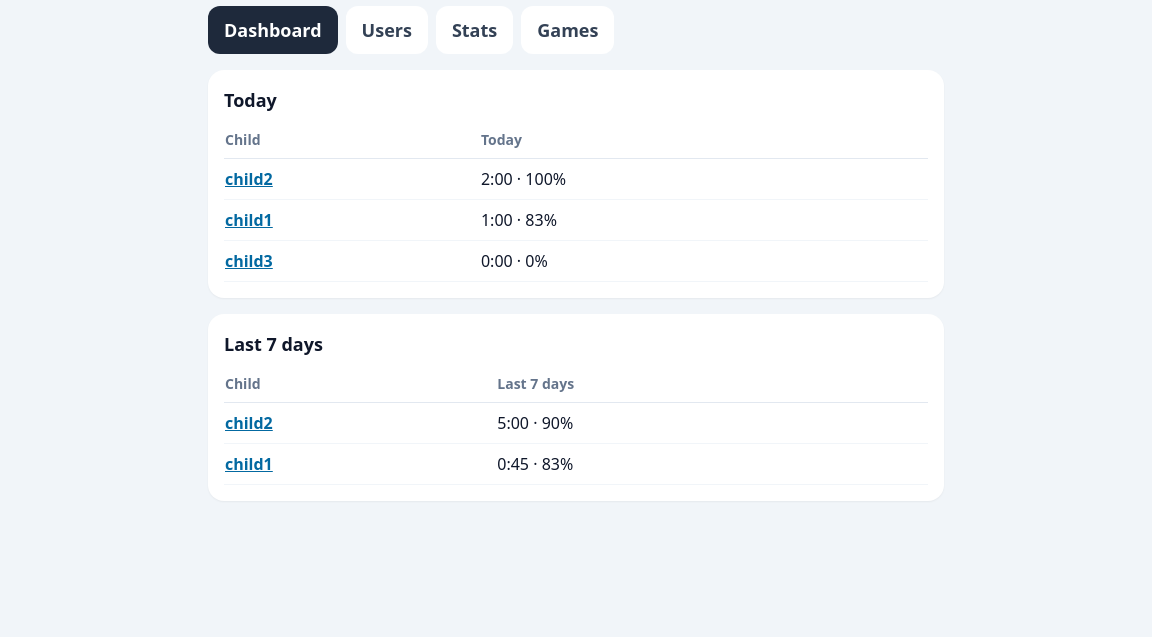
Test: T13 — admin panel › case 6: the reset needs a confirmation and then zeroes the bank
The width and height of the screenshot is (1152, 637).
Click the button "Users". click: (387, 30)
box: [346, 6, 428, 54]
(page scrolled)
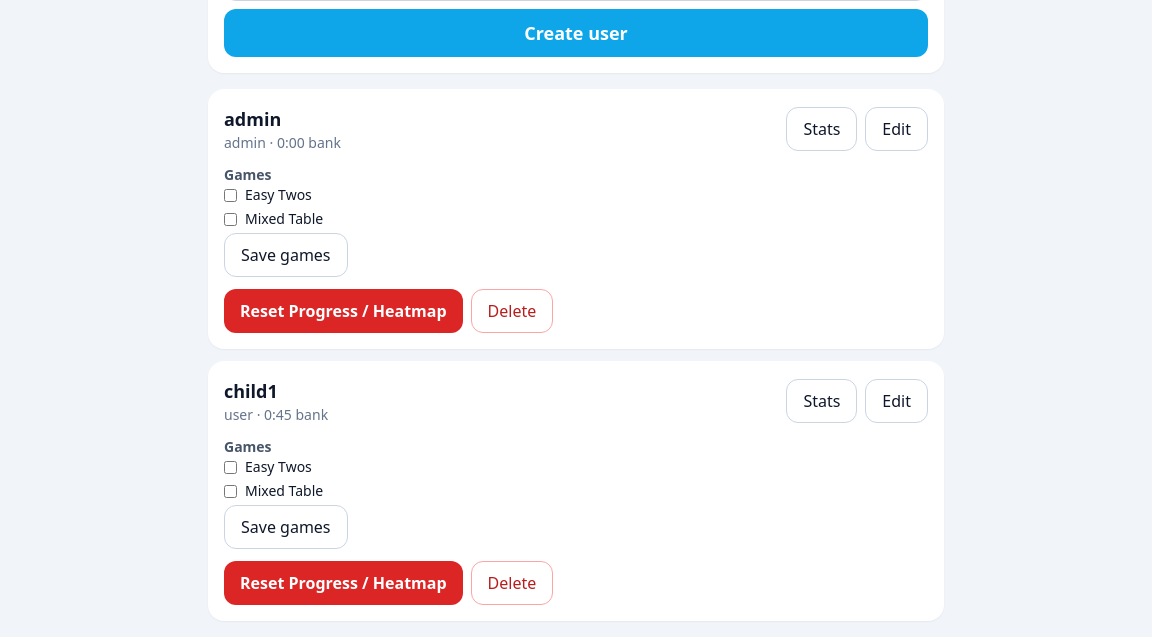
Expected: the list item with test id "user-child1" shows "0:45 bank", [208, 361, 944, 621]
Click the button "Reset Progress / Heatmap" below "child1". click: (343, 583)
box: [224, 561, 463, 605]
(page scrolled)
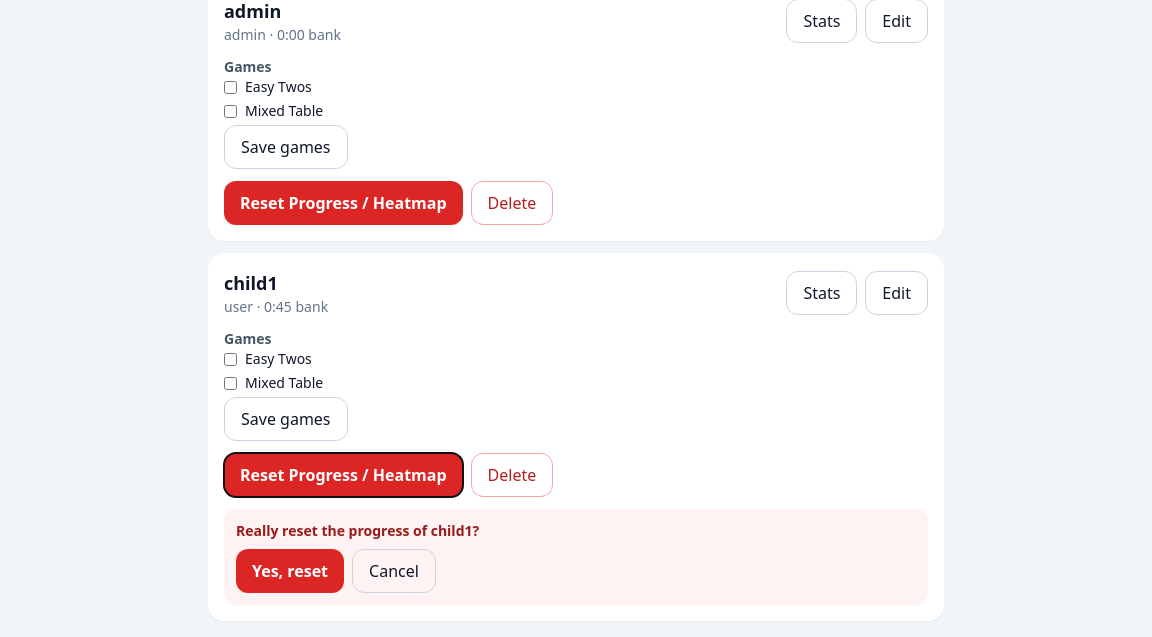
Expected: the element with test id "confirm-child1" is shown, [224, 509, 928, 605]
Click the button "Yes, reset". click: (290, 571)
box: [236, 549, 344, 593]
(page scrolled)
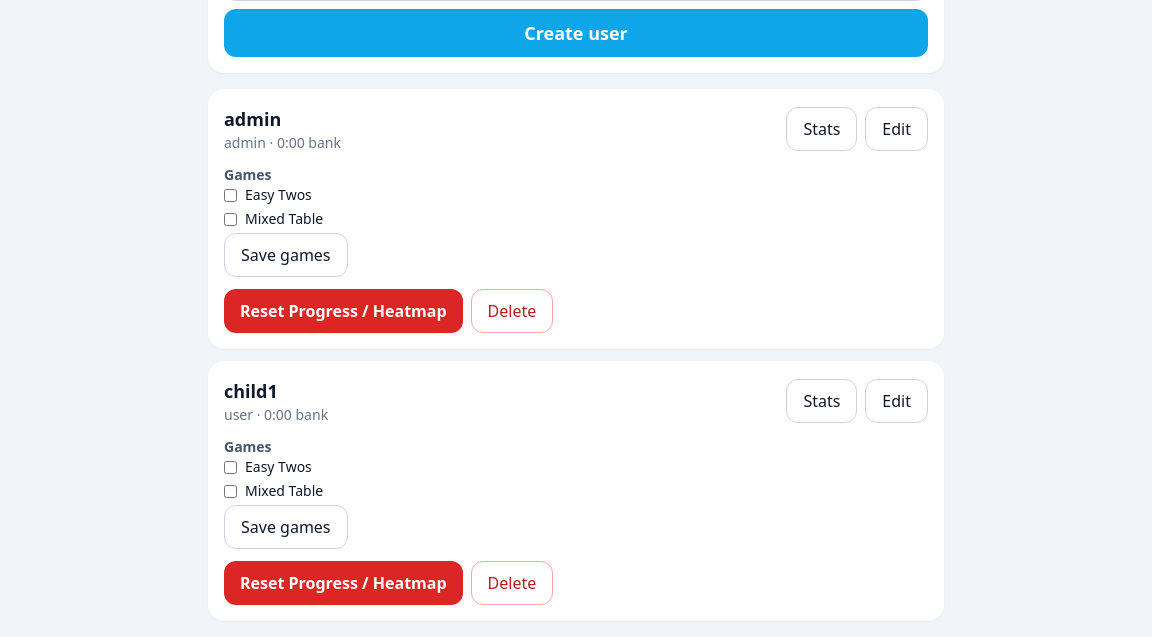
Expected: the list item with test id "user-child1" shows "0:00 bank", [208, 361, 944, 621]
